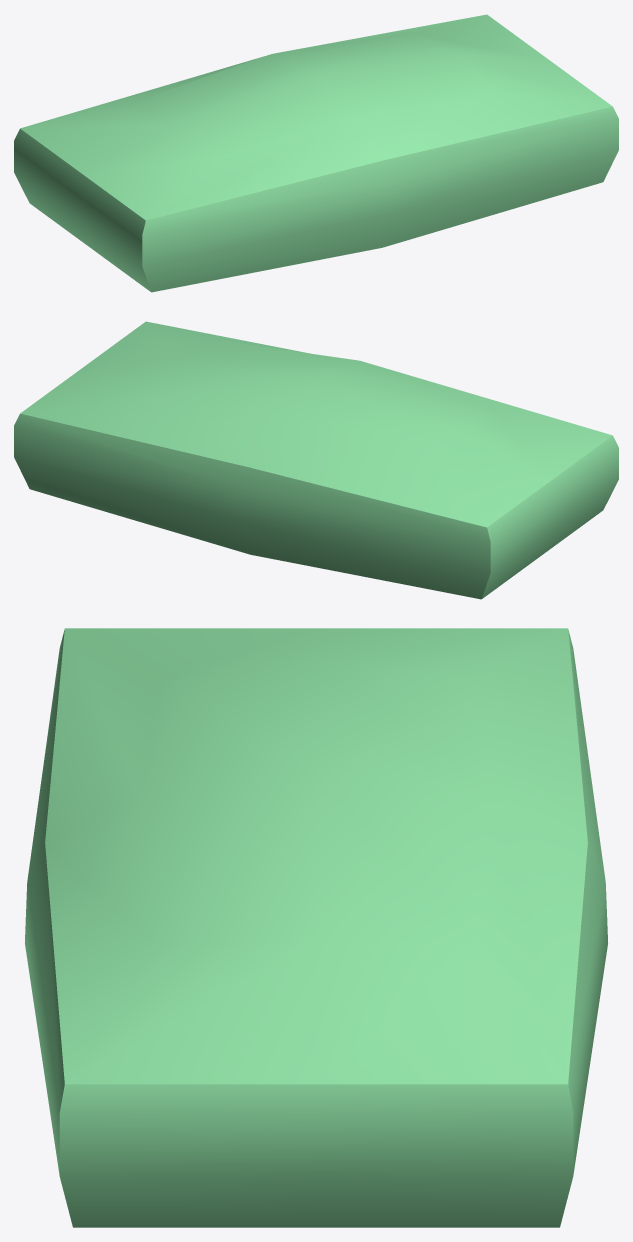
The model's file is MedicalPillow.fbx.
3 views of the same model, one above another, from view 1: azimuth 30°, elevation 25°; view 2: azimuth 150°, elevation 25°; view 3: azimuth 270°, elevation 25° (orthographic). The views are drawn at different scales.
Visible parts, largest first — view 1: MedicalPillow; view 2: MedicalPillow; view 3: MedicalPillow.
Part boxes in pixels (x1,y1,x2,y2): MedicalPillow: [14, 14, 618, 292]; MedicalPillow: [14, 321, 618, 599]; MedicalPillow: [25, 628, 607, 1227].
Size of the model in its own units: 15.82 by 3.98 by 8.38.
